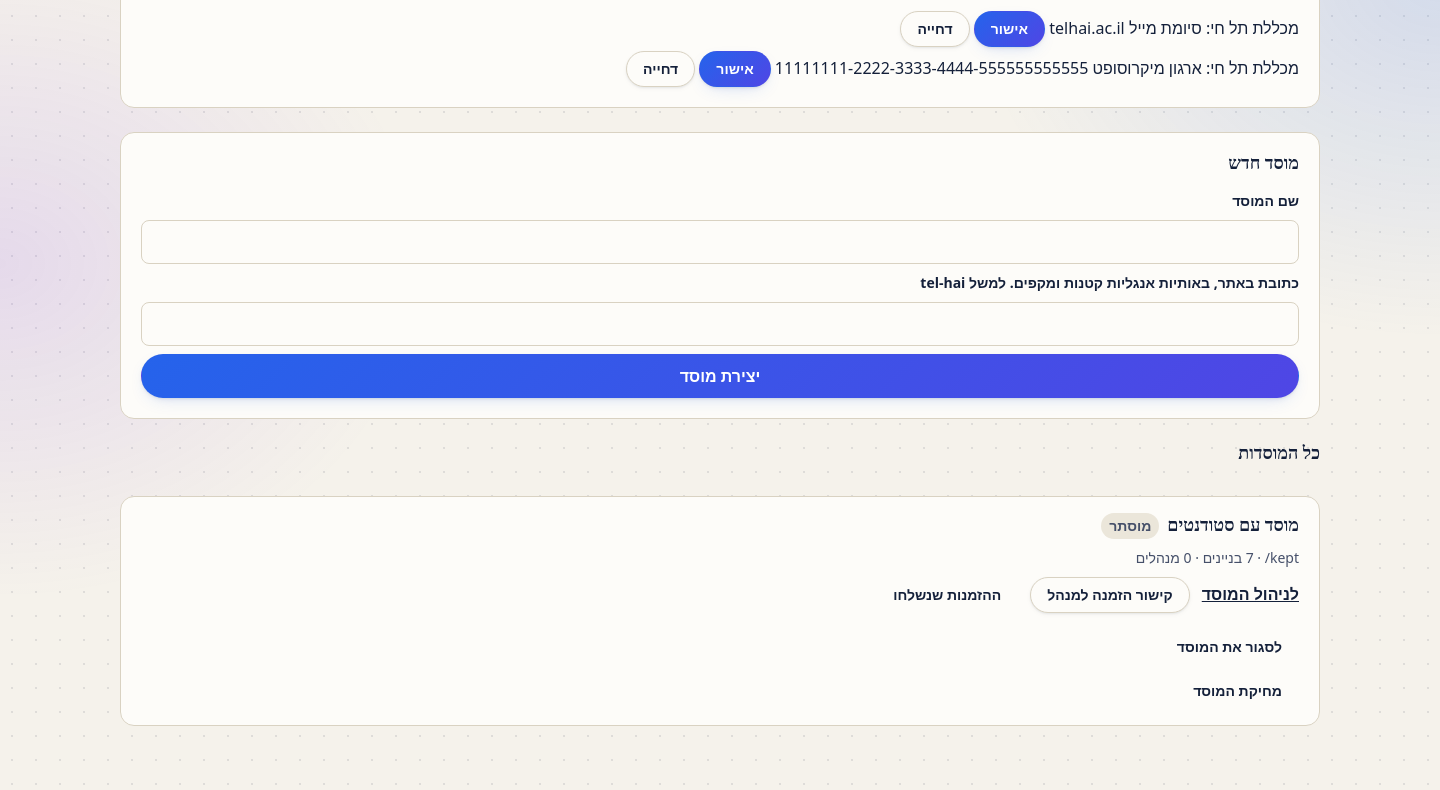
SystemPage › says why the server keeps an institution
(page scrolled)
Click the button "מחיקת המוסד" at point(1238, 691), box [1176,673,1299,709]
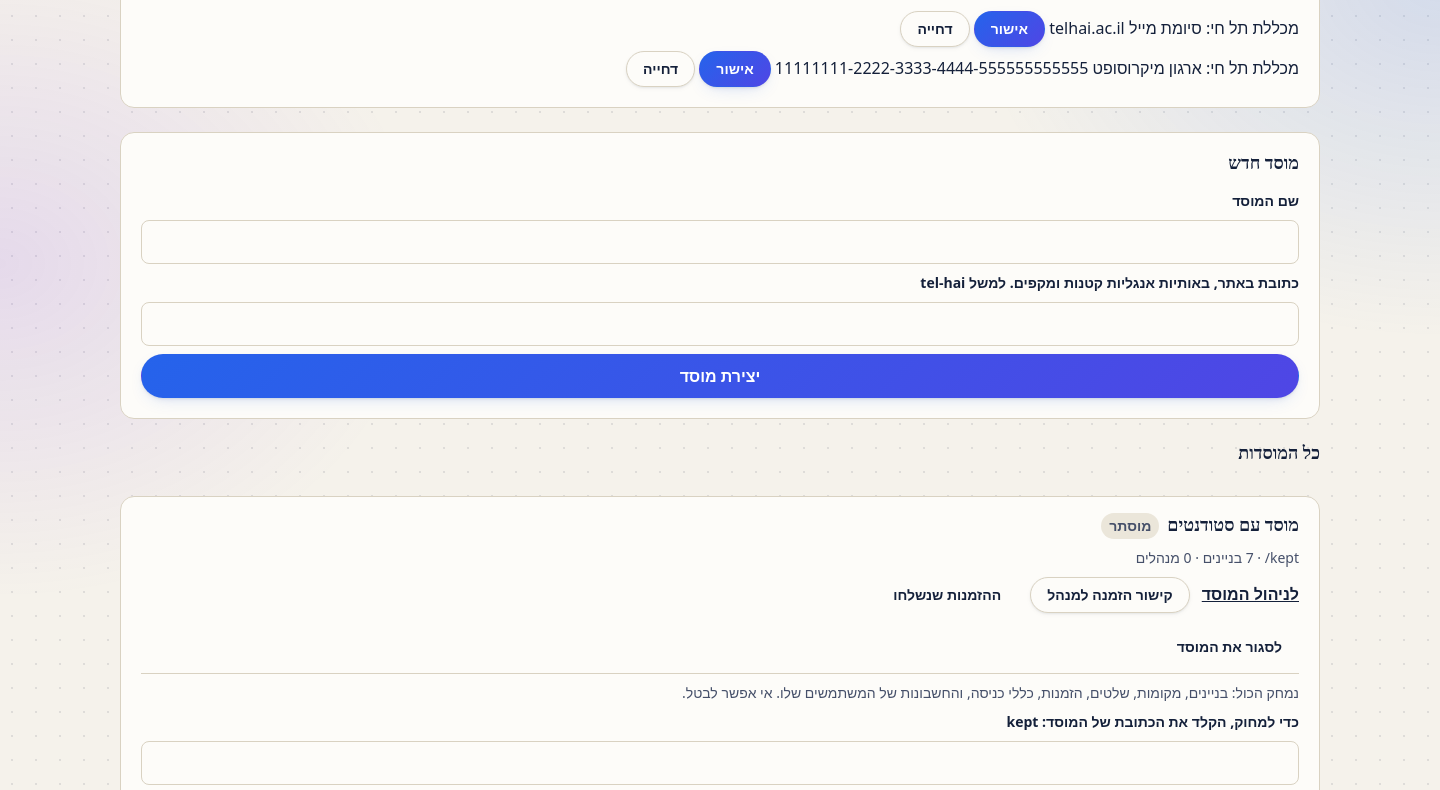
Type "kept" into the field labelled "כדי למחוק, הקלד את הכתובת של המוסד: kept" at point(720, 763), box [141,741,1299,785]
(page scrolled)
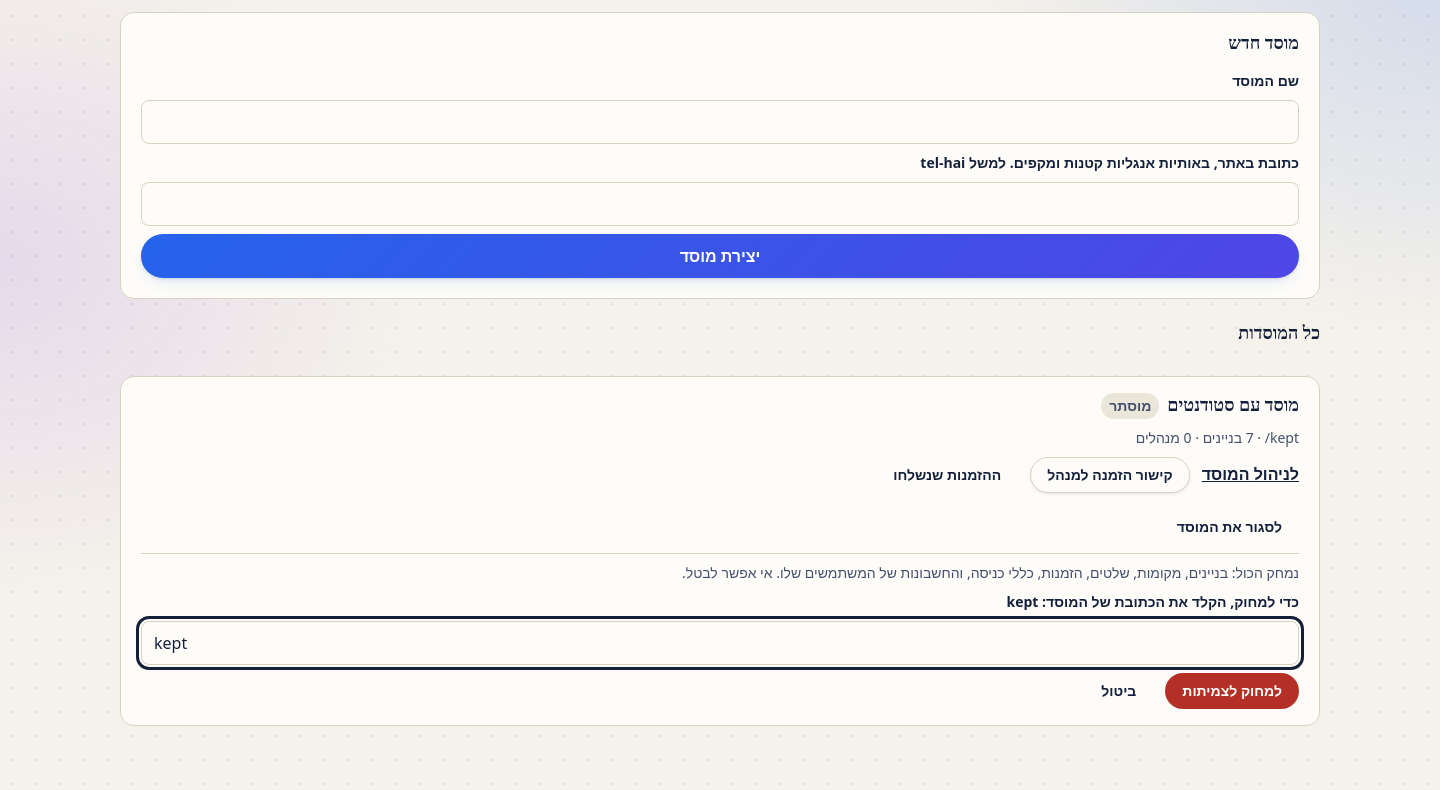
Click the button "למחוק לצמיתות" at point(1232, 691), box [1165,673,1299,709]
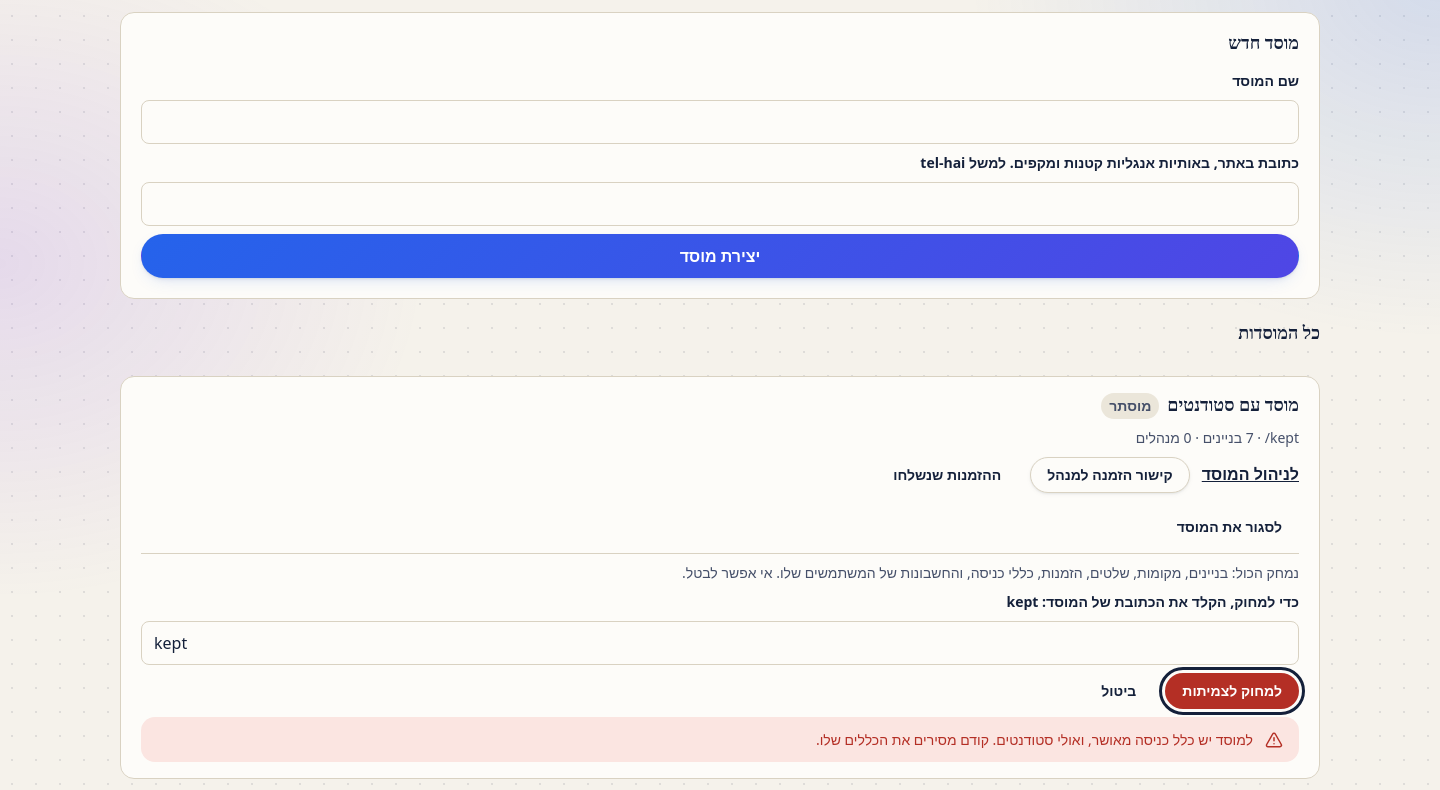
Result: the message shows "כלל כניסה מאושר" at [816,730,1253,749]
